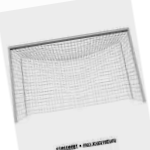goals: (7, 26, 147, 124)
